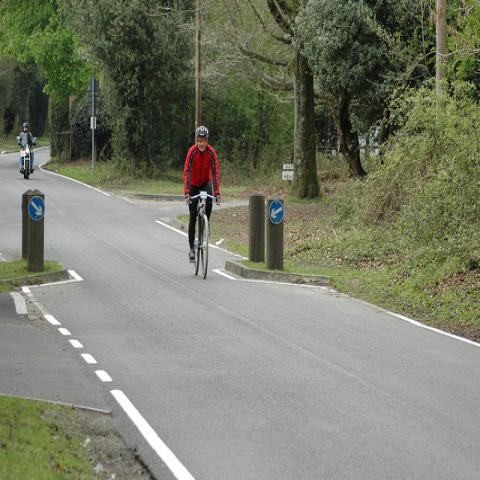motorcycle: (16, 133, 36, 179)
